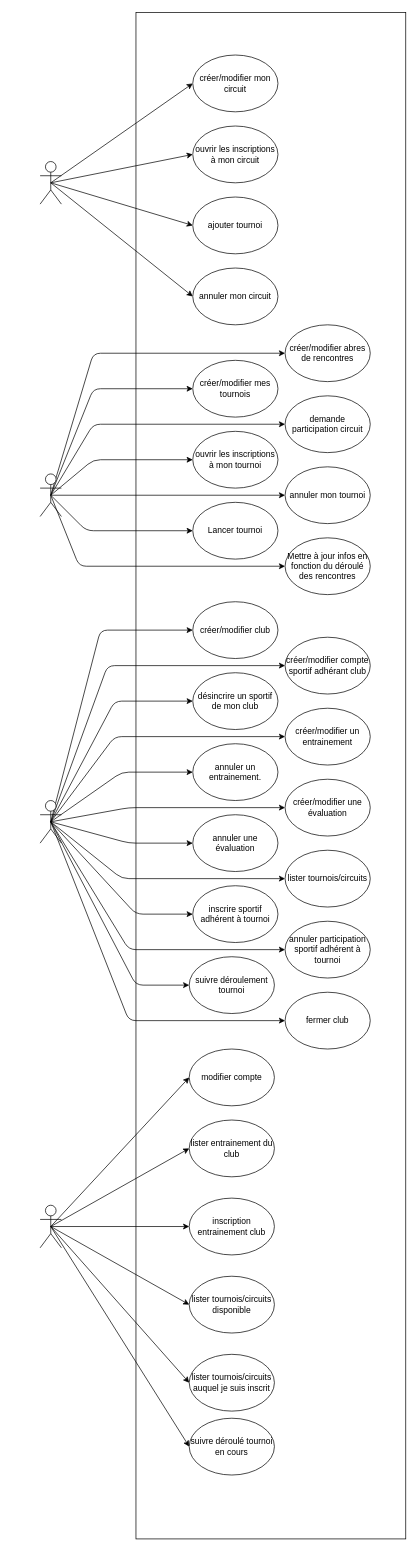
Some shapes in this 418 by 1551 pixel diagram are drawn without their labels. Each missing label, with the centre of its shape:
Entraineur: pixel 50 821
Oragnisateur circuit: pixel 50 182
Organisateur tournoi: pixel 50 495
Sportif: pixel 50 1226
